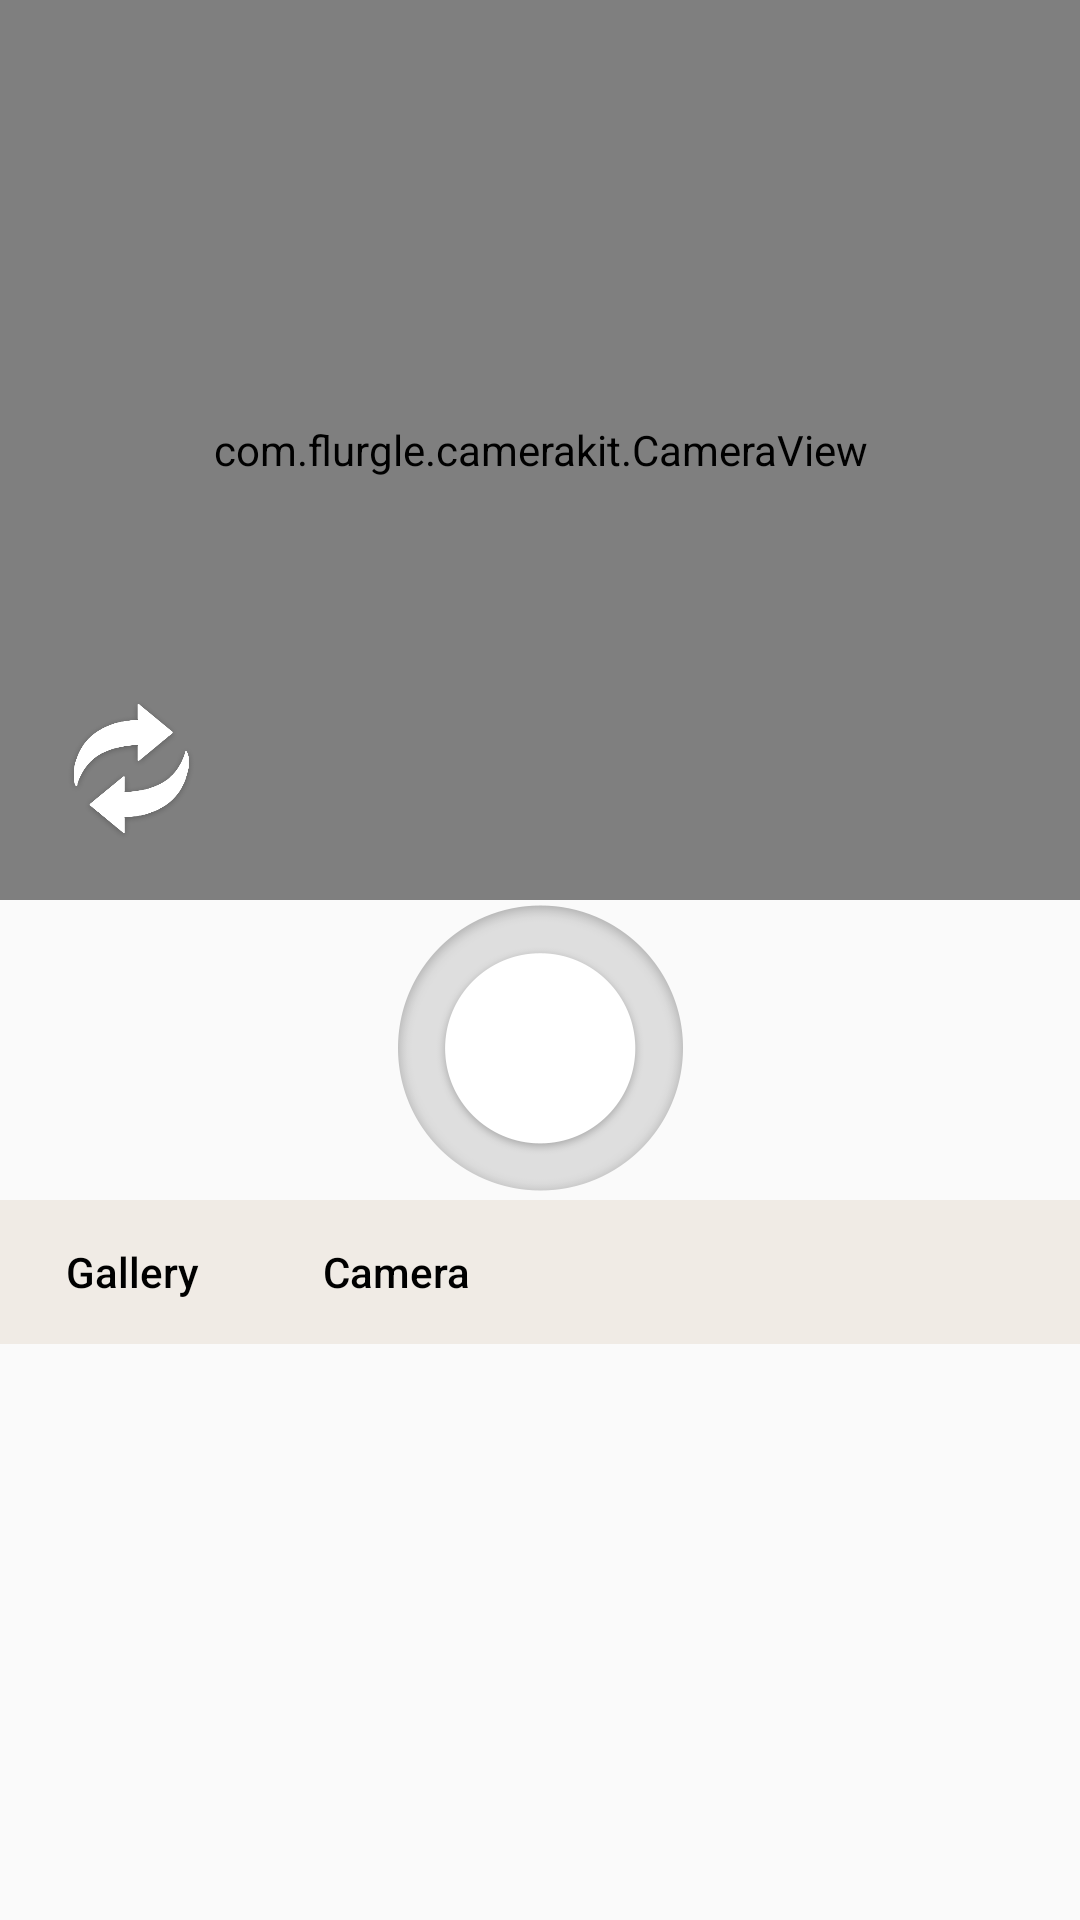

Point at icon controls on the screen. Image size 1080px x 1920px, points as (x=x, y=y).
capture: (x=540, y=1047)
swap: (x=131, y=768)
